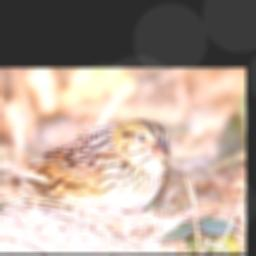Sparrow: (0, 116, 171, 217)
